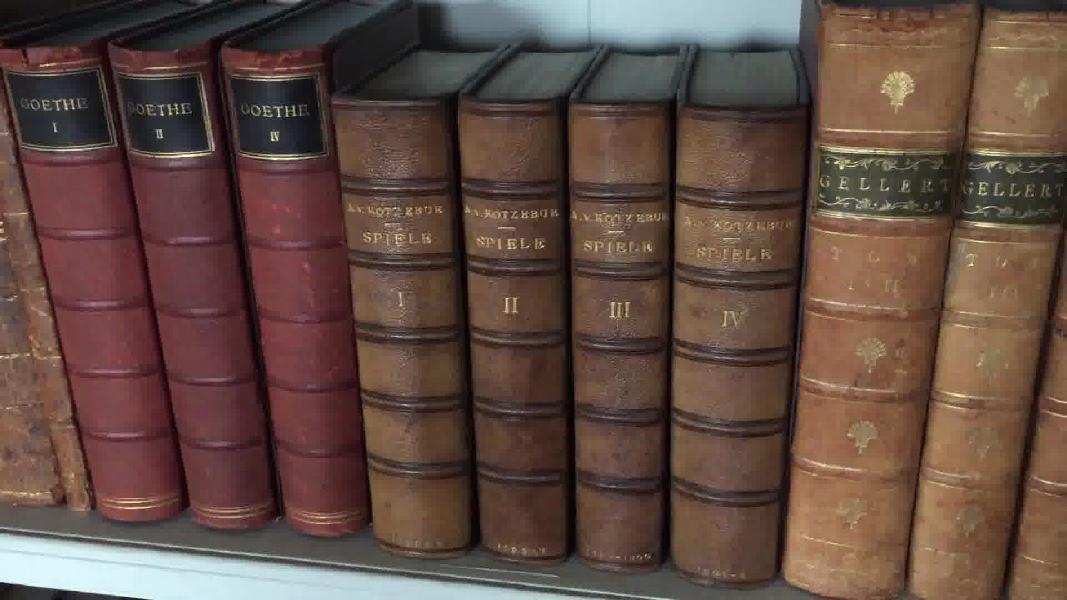Aa6-11_13: (9, 35, 369, 542)
Aa6-14_17: (321, 85, 788, 600)
